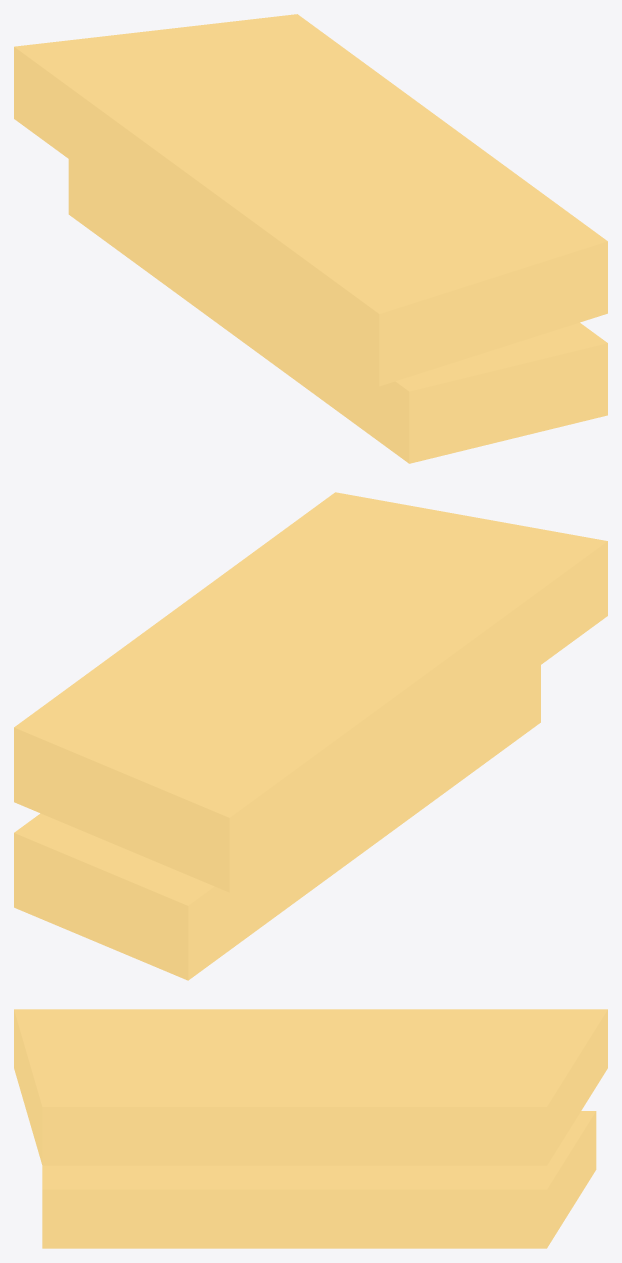
The picture shows the model from 3 angles, top to bottom: view 1: azimuth 30°, elevation 25°; view 2: azimuth 150°, elevation 25°; view 3: azimuth 270°, elevation 25°; orthographic projection. The views are drawn at different scales.
Visible parts, largest first — view 1: Box018; view 2: Box018; view 3: Box018.
Boxes of the visible parts, bbox=[...] form: Box018: bbox=[14, 14, 607, 463]; Box018: bbox=[14, 492, 607, 980]; Box018: bbox=[14, 1009, 607, 1248].
Bounding box in the file's own units: 10.33 × 6.99 × 26.59.
